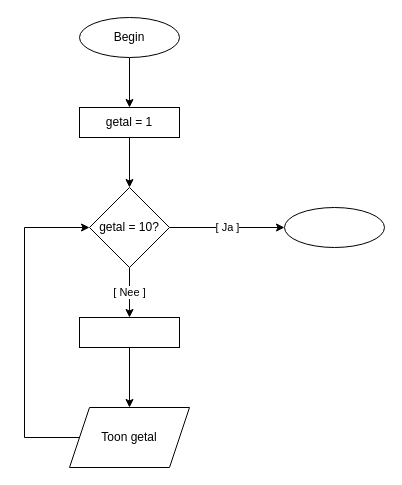
The diagram is 402 pixels wide and 485 high, and some of its shapes have lost their labels. The box of each missing label's shape, as (x1, y1, x2, y2) in pixels:
Einde: (284, 206, 384, 248)
getal += 1: (78, 316, 180, 348)
